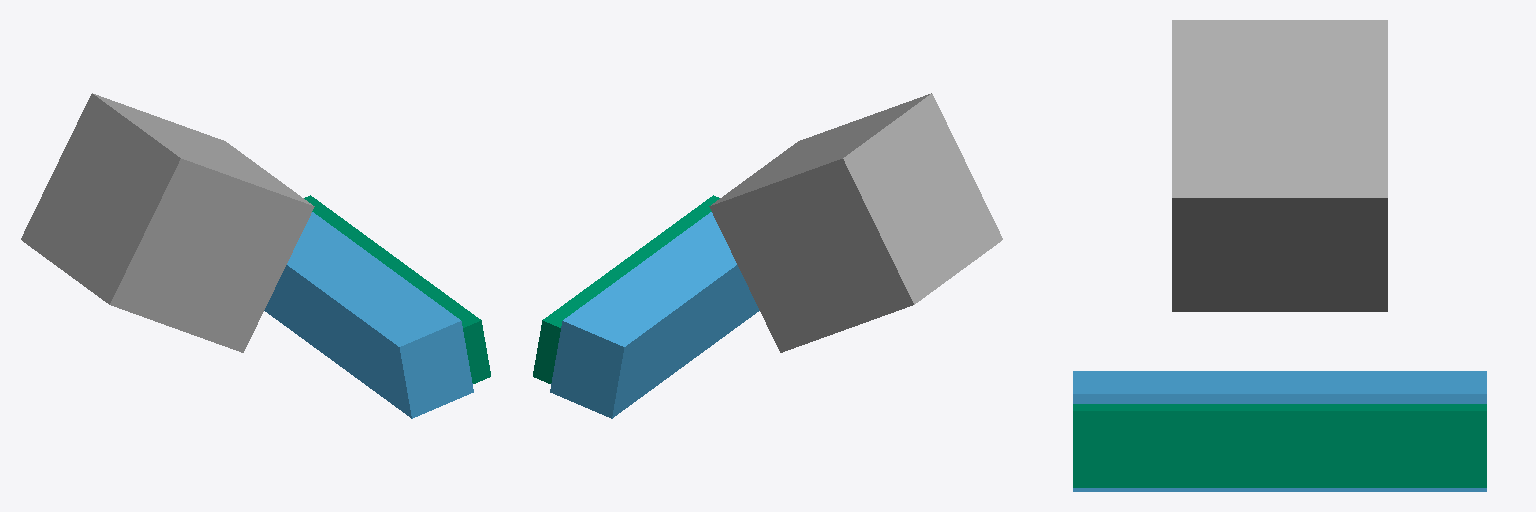
robot.urdf — stereo_mount:
<?xml version="1.0" encoding="UTF-8"?>
<!--
  stereo_mount: ZED-M stereo camera + Livox Mid-360 on one rigid mount.

  Frame convention: x forward, y left, z up (ROS). base_link is the mount plate.
  - The ZED faces mostly forward, pitched UP 10 deg  (rpy pitch = -0.17453293).
  - The Mid-360 sits behind it, pitched DOWN 30 deg  (rpy pitch = +0.52359878).
  All offsets are placeholder-but-sane values meant for hand fine-tuning; the
  bounding boxes are the real ZED-M / Mid-360 datasheet dimensions.

  ZED-M body: 124.5 x 30.5 x 26.5 mm (width x height x depth), stereo baseline 63 mm.
  Mid-360 body: 65 x 65 x 60 mm; point-cloud origin ~47 mm above the base, i.e.
  17 mm above the box center.
-->
<robot name="stereo_mount">

  <link name="base_link"/>

  <!-- ═══ ZED-M (front, pitched up 10 deg) ═══ -->

  <joint name="base_to_zed" type="fixed">
    <parent link="base_link"/>
    <child link="zed_link"/>
    <origin xyz="0.06 0 0.02" rpy="0 -0.17453293 0"/>
  </joint>

  <!-- zed_link = center of the ZED main body box -->
  <link name="zed_link">
    <visual>
      <origin xyz="0 0 0" rpy="0 0 0"/>
      <geometry>
        <box size="0.0265 0.1245 0.0305"/>
      </geometry>
    </visual>
    <collision>
      <origin xyz="0 0 0" rpy="0 0 0"/>
      <geometry>
        <box size="0.0265 0.1245 0.0305"/>
      </geometry>
    </collision>
  </link>

  <!-- Thin box spanning both lens apertures, flush with the body's front face -->
  <joint name="zed_to_lenses" type="fixed">
    <parent link="zed_link"/>
    <child link="zed_lenses_link"/>
    <origin xyz="0.01725 0 0" rpy="0 0 0"/>
  </joint>

  <link name="zed_lenses_link">
    <visual>
      <origin xyz="0 0 0" rpy="0 0 0"/>
      <geometry>
        <box size="0.008 0.1245 0.024"/>
      </geometry>
    </visual>
    <collision>
      <origin xyz="0 0 0" rpy="0 0 0"/>
      <geometry>
        <box size="0.008 0.1245 0.024"/>
      </geometry>
    </collision>
  </link>

  <!-- Eye frames: 63 mm baseline, symmetric about the body center -->
  <joint name="zed_to_left_eye" type="fixed">
    <parent link="zed_link"/>
    <child link="zed_left_frame"/>
    <origin xyz="0 0.0315 0" rpy="0 0 0"/>
  </joint>
  <link name="zed_left_frame"/>

  <joint name="zed_left_to_optical" type="fixed">
    <parent link="zed_left_frame"/>
    <child link="zed_left_optical_frame"/>
    <origin xyz="0 0 0" rpy="-1.5707963 0 -1.5707963"/>
  </joint>
  <link name="zed_left_optical_frame"/>

  <joint name="zed_to_right_eye" type="fixed">
    <parent link="zed_link"/>
    <child link="zed_right_frame"/>
    <origin xyz="0 -0.0315 0" rpy="0 0 0"/>
  </joint>
  <link name="zed_right_frame"/>

  <joint name="zed_right_to_optical" type="fixed">
    <parent link="zed_right_frame"/>
    <child link="zed_right_optical_frame"/>
    <origin xyz="0 0 0" rpy="-1.5707963 0 -1.5707963"/>
  </joint>
  <link name="zed_right_optical_frame"/>

  <!-- ═══ Mid-360 (behind and above the ZED, pitched down 30 deg) ═══ -->

  <joint name="base_to_mid360" type="fixed">
    <parent link="base_link"/>
    <child link="mid360_link"/>
    <origin xyz="-0.017268 0 0.071831" rpy="0 0.52359878 0"/>
  </joint>

  <!-- mid360_link = center of the Mid-360 body box -->
  <link name="mid360_link">
    <visual>
      <origin xyz="0 0 0" rpy="0 0 0"/>
      <geometry>
        <box size="0.065 0.065 0.060"/>
      </geometry>
    </visual>
    <collision>
      <origin xyz="0 0 0" rpy="0 0 0"/>
      <geometry>
        <box size="0.065 0.065 0.060"/>
      </geometry>
    </collision>
  </link>

  <!-- Point-cloud origin O: on the central axis, 17 mm above the box center -->
  <joint name="mid360_to_lidar" type="fixed">
    <parent link="mid360_link"/>
    <child link="lidar_frame"/>
    <origin xyz="0 0 0.017" rpy="0 0 0"/>
  </joint>
  <link name="lidar_frame"/>

</robot>

--- What the picture shows (computed from the rendered views, not written in the file) ---
3 views of the same robot in one strip: view 1: azimuth 30°, elevation 25°; view 2: azimuth 150°, elevation 25°; view 3: azimuth 270°, elevation 25° (orthographic).
Model stereo_mount with 9 links and 8 joints (8 fixed), rooted at base_link, posed all joints at 0.
Visible links, largest first — view 1: mid360_link, zed_link, zed_lenses_link; view 2: mid360_link, zed_link, zed_lenses_link; view 3: mid360_link, zed_lenses_link, zed_link.
Link boxes in pixels (<box>): mid360_link: <box>21,93,314,352</box>; zed_link: <box>264,212,473,418</box>; zed_lenses_link: <box>304,195,490,383</box>; mid360_link: <box>709,93,1002,352</box>; zed_link: <box>550,212,759,418</box>; zed_lenses_link: <box>533,195,719,383</box>; mid360_link: <box>1172,20,1387,311</box>; zed_lenses_link: <box>1073,404,1486,487</box>; zed_link: <box>1073,371,1486,491</box>.
Bounding box of the posed robot: 0.1434 × 0.1245 × 0.1114 m (x, y, z).
Geometry: primitives only (box / cylinder / sphere), no mesh files.
